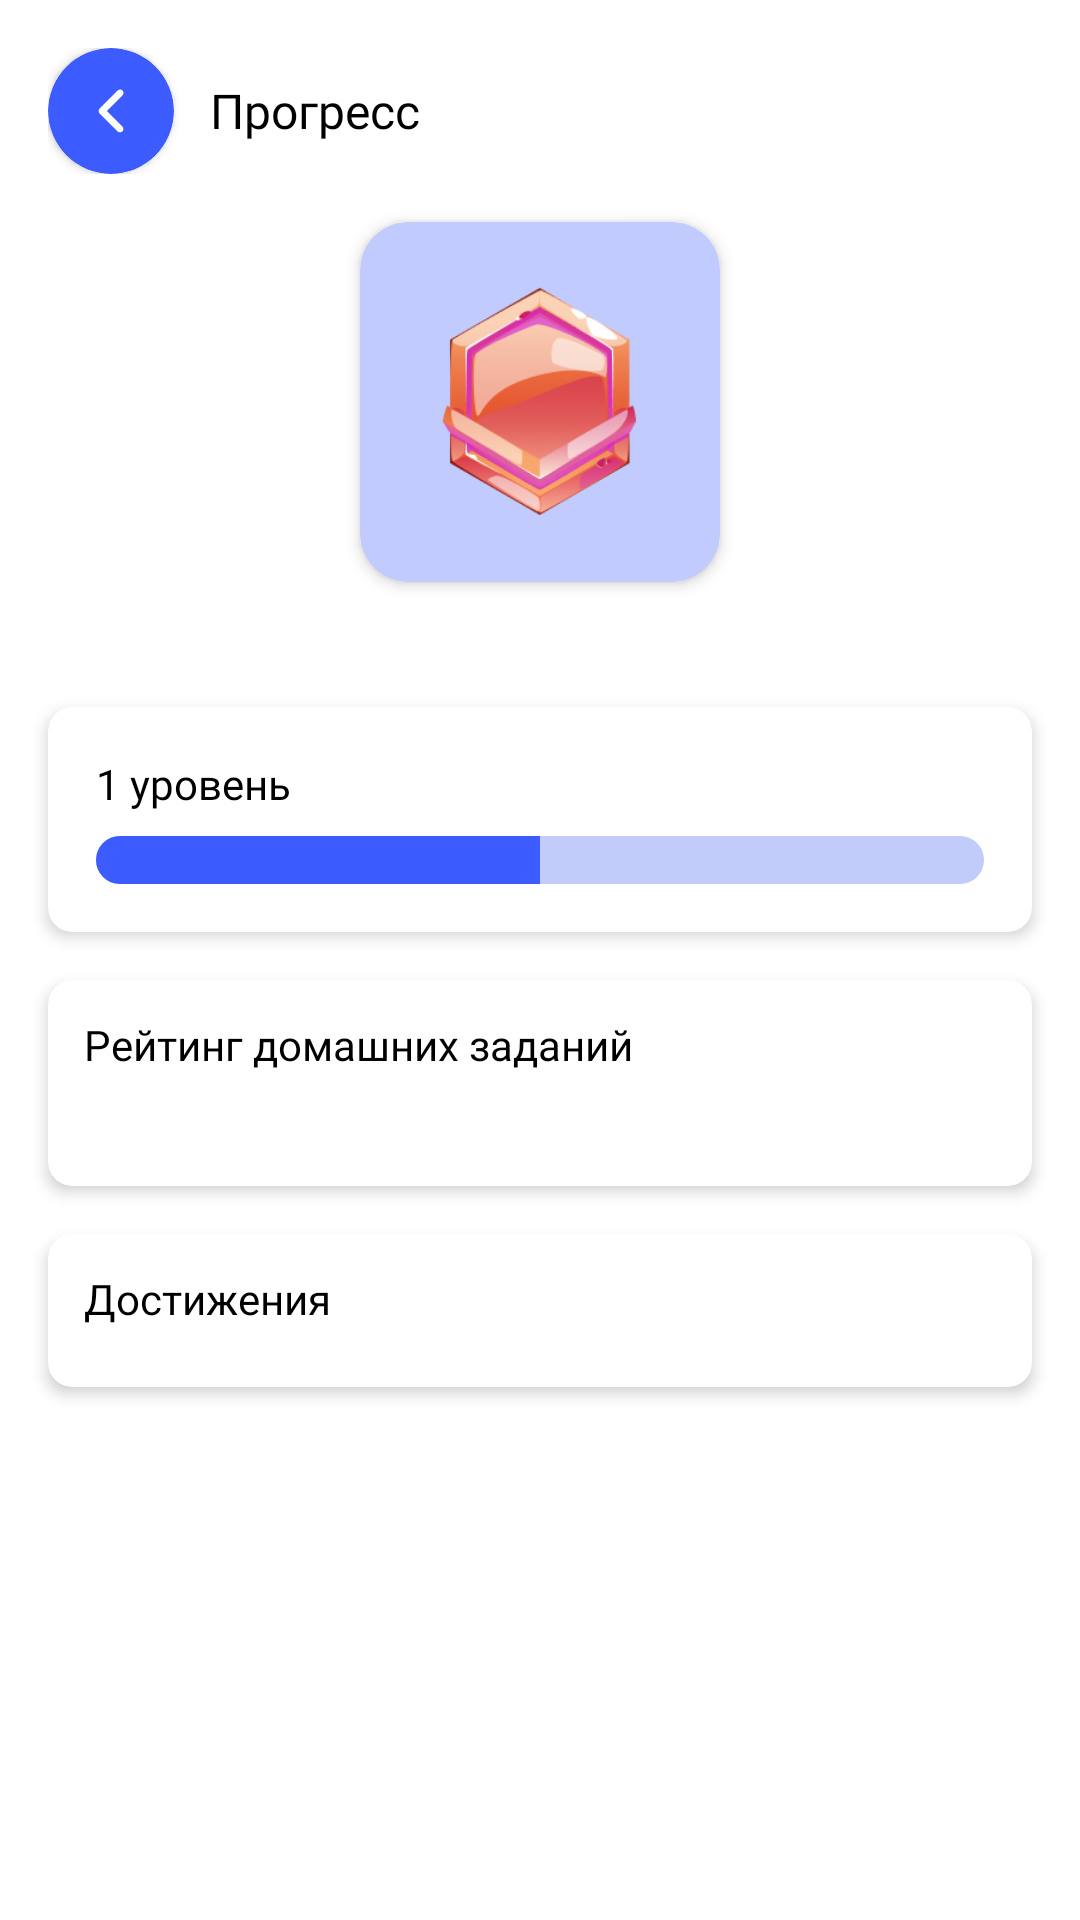

Icon bounding boxes for this 1080x1920 phone screenshot, format (x1, y1, x2, y2):
back: (48, 48, 174, 174)
rank: (360, 222, 720, 582)
